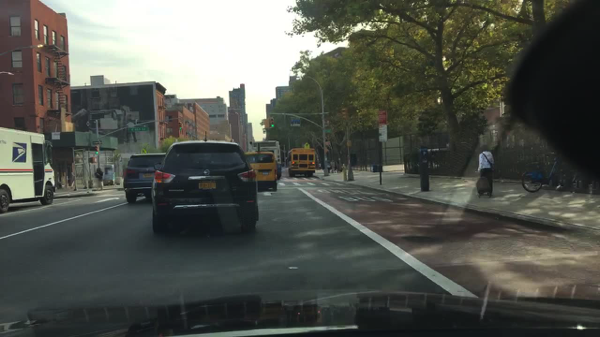bike: (519, 150, 582, 192)
bus: (0, 126, 57, 214), (250, 140, 283, 178), (285, 148, 317, 178)
car: (151, 132, 260, 237), (123, 153, 167, 203), (241, 143, 278, 192)
person: (477, 144, 494, 195), (95, 168, 103, 191), (333, 161, 339, 173), (326, 160, 331, 173), (341, 163, 345, 170), (318, 162, 321, 169)
traffic light: (88, 157, 98, 164), (269, 117, 275, 128), (263, 119, 268, 128), (94, 146, 99, 154)
traffic sign: (378, 125, 388, 142), (378, 110, 388, 125), (127, 126, 148, 132), (290, 118, 301, 126), (91, 141, 102, 145), (303, 142, 309, 148), (324, 129, 330, 133), (325, 141, 331, 145)
